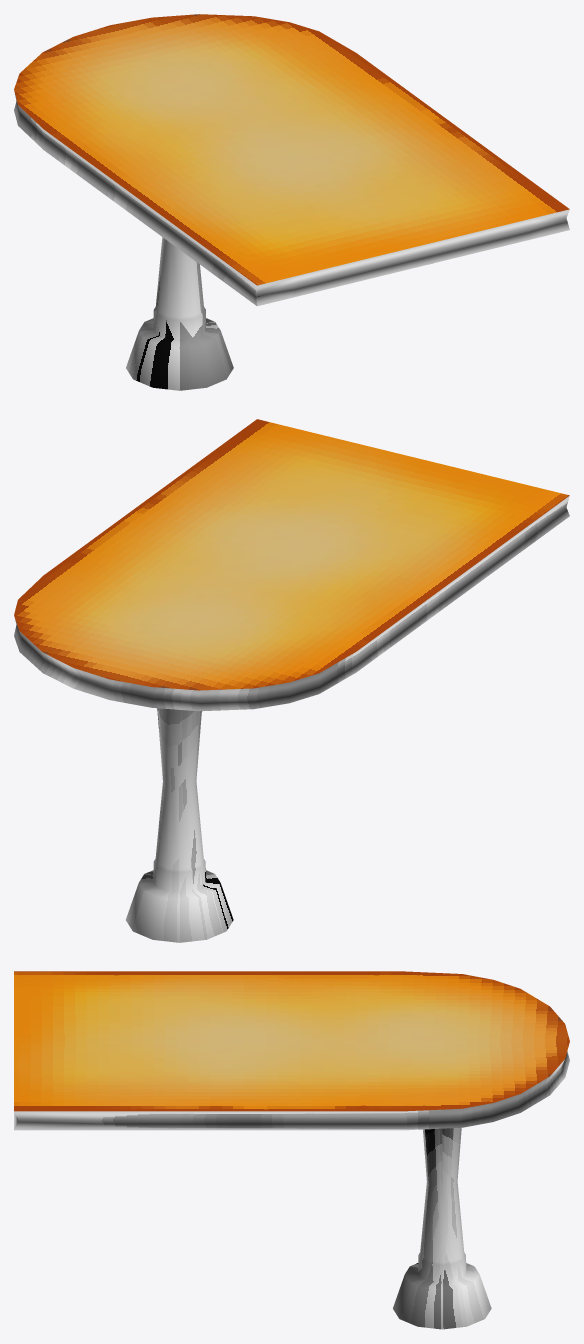
The model's file is ct-table.glb.
3 views of the same model, one above another, from view 1: azimuth 30°, elevation 25°; view 2: azimuth 150°, elevation 25°; view 3: azimuth 270°, elevation 25° (orthographic). The views are drawn at different scales.
Parts seen in each view (by area): view 1: Cube.004, Cylinder; view 2: Cube.004, Cylinder; view 3: Cube.004, Cylinder.
Boxes of the visible parts, x1,y1,x2,y2 form: Cube.004: (14,14,569,306); Cylinder: (126,237,233,390); Cube.004: (14,419,569,711); Cylinder: (126,708,233,942); Cube.004: (14,971,569,1130); Cylinder: (393,1128,491,1329).
Bounding box in the file's own units: 9.25 × 8.24 × 15.54.
2 materials, 2 textured.
